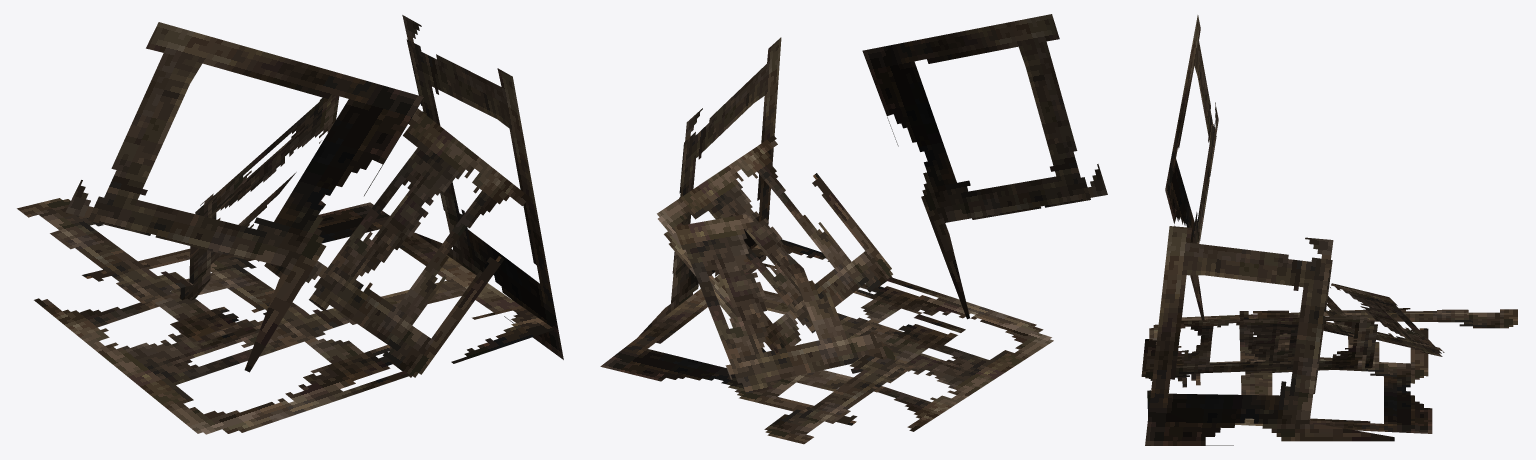
Rendered from crate_small_broken.glb.
The picture shows the model from 3 angles, left to right: view 1: azimuth 30°, elevation 25°; view 2: azimuth 150°, elevation 25°; view 3: azimuth 270°, elevation 25°; orthographic projection. The views are drawn at different scales.
Visible parts, largest first — view 1: WCRATE1X; view 2: WCRATE1X; view 3: WCRATE1X.
Part boxes in pixels (x1=…): WCRATE1X: x1=17, y1=15, x2=563, y2=434; WCRATE1X: x1=600, y1=14, x2=1107, y2=444; WCRATE1X: x1=1141, y1=15, x2=1517, y2=445.
Bounding box in the file's own units: 1.08 × 0.9941 × 1.08.
1 material, 1 textured.
